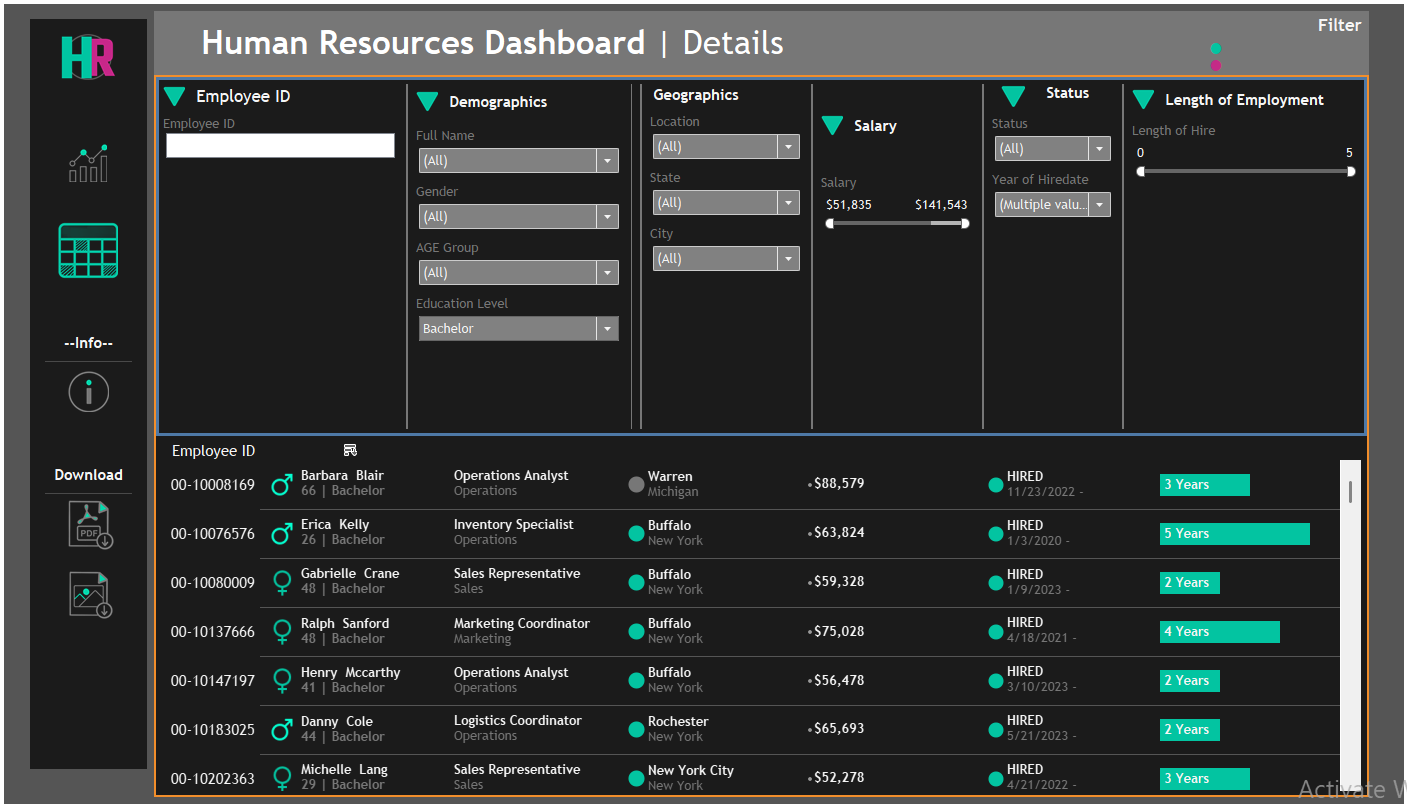

The dashboard page shown, as its layout file describes it:
{"tool":"tableau","page":{"name":"HR | Details","canvas":[1400,800],"ordinal":0},"visuals":[{"type":"text","box":[1286,6,100,30]},{"type":"text","box":[150,7,677.5,64]},{"type":"blank","box":[827.5,7,537.5,64]},{"type":"image","param":"Image/Logo.png","box":[36,25,97,55]},{"type":"text","box":[1203,37,89,36]},{"type":"dashboard-object","box":[155,76,30,32]},{"type":"text","box":[185,76,213.5,32]},{"type":"blank","box":[398.5,76,10,353]},{"type":"dashboard-object","box":[408.5,76,30,44]},{"type":"text","box":[438.5,76,184,44]},{"type":"dashboard-object","box":[542,76,30,32]},{"type":"text","box":[572,76,61.5,32]},{"type":"blank","box":[622.5,76,10,353]},{"type":"blank","box":[632.5,76,10,353]},{"type":"blank","box":[633.5,76,49.5,32]},{"type":"text","box":[642.5,76,161,30]},{"type":"blank","box":[803.5,76,10,353]},{"type":"dashboard-object","box":[813.5,76,30,91]},{"type":"text","box":[843.5,76,90,91]},{"type":"blank","box":[974.5,76,10,353]},{"type":"dashboard-object","box":[984.5,76,51,32]},{"type":"text","box":[1035.5,76,79,26]},{"type":"blank","box":[1114.5,76,10,353]},{"type":"dashboard-object","box":[1124.5,76,30,39]},{"type":"text","box":[1154.5,76,205.5,39]},{"type":"blank","box":[36,80,97,60]},{"type":"filter","title":"details","param":"[federated.1b5o2vp1k13vo616yvkzb0z88h2i].[none:Calculation_1937110846422126599:n","box":[642.5,106,161,56]},{"type":"filter","title":"details","param":"[federated.1b5o2vp1k13vo616yvkzb0z88h2i].[none:Employee_ID:nk]","box":[155,108,243.5,53]},{"type":"filter","title":"details","param":"[federated.1b5o2vp1k13vo616yvkzb0z88h2i].[none:Job Title:nk]","box":[542,108,141,79]},{"type":"filter","title":"details","param":"[federated.1b5o2vp1k13vo616yvkzb0z88h2i].[none:Calculation_1937110847479668753:n","box":[984.5,108,130,56]},{"type":"filter","title":"details","param":"[federated.1b5o2vp1k13vo616yvkzb0z88h2i].[sum:Calculation_1426515241898348553:qk","box":[1124.5,115,235.5,68]},{"type":"filter","title":"details","param":"[federated.1b5o2vp1k13vo616yvkzb0z88h2i].[none:Calculation_1426515241864122372:n","box":[408.5,120,214,56]},{"type":"dashboard-object","box":[36,140,97,38]},{"type":"filter","title":"details","param":"[federated.1b5o2vp1k13vo616yvkzb0z88h2i].[none:State:nk]","box":[642.5,162,161,56]},{"type":"filter","title":"details","param":"[federated.1b5o2vp1k13vo616yvkzb0z88h2i].[yr:Hiredate:ok]","box":[984.5,164,130,56]},{"type":"filter","title":"details","param":"[federated.1b5o2vp1k13vo616yvkzb0z88h2i].[sum:Salary:qk]","box":[813.5,167,161,68]},{"type":"filter","title":"details","param":"[federated.1b5o2vp1k13vo616yvkzb0z88h2i].[none:Gender:nk]","box":[408.5,176,214,56]},{"type":"blank","box":[36,178,97,38]},{"type":"filter","title":"details","param":"[federated.1b5o2vp1k13vo616yvkzb0z88h2i].[none:Department:nk]","box":[542,187,141,76]},{"type":"dashboard-object","box":[36,216,97,60]},{"type":"filter","title":"details","param":"[federated.1b5o2vp1k13vo616yvkzb0z88h2i].[none:City:nk]","box":[642.5,218,161,56]},{"type":"filter","title":"details","param":"[federated.1b5o2vp1k13vo616yvkzb0z88h2i].[none:Calculation_1937110846440509456:n","box":[408.5,232,214,56]},{"type":"text","box":[142,266,1257,267]},{"type":"blank","box":[36,276,97,50]},{"type":"filter","title":"details","param":"[federated.1b5o2vp1k13vo616yvkzb0z88h2i].[none:Education Level:nk]","box":[408.5,288,214,56]},{"type":"text","box":[36,326,97,26]},{"type":"blank","box":[36,352,97,11]},{"type":"dashboard-object","box":[36,363,97,49]},{"type":"blank","box":[36,412,97,46]},{"type":"worksheet","title":"details","mark":"Shape","rows":["Employee_ID"],"cols":["Calculation_1426515241874878472","Calculation_1426515241874878472","Calculation_1426515241874878472","Calculation_1426515241874878472","Calculation_1426515241874878472","Calculation_1426515241898348553"],"box":[152,432,1211,359]},{"type":"text","box":[36,458,97,26]},{"type":"blank","box":[36,484,97,11]},{"type":"dashboard-object","box":[36,495,97,51]},{"type":"blank","box":[36,546,97,20]},{"type":"dashboard-object","box":[36,566,97,49]}]}

Visuals, with their boxes on the page's 1400x800 design canvas (x1, y1, x2, y2). These are canvas units, not pixel positions in the 1407x805 screenshot, which may show the page scaled, cropped or inside an application window:
text: [1286,6,1386,36]
text: [150,7,828,71]
blank: [828,7,1365,71]
image: [36,25,133,80]
text: [1203,37,1292,73]
dashboard-object: [155,76,185,108]
text: [185,76,398,108]
blank: [398,76,408,429]
dashboard-object: [408,76,438,120]
text: [438,76,622,120]
dashboard-object: [542,76,572,108]
text: [572,76,634,108]
blank: [622,76,632,429]
blank: [632,76,642,429]
blank: [634,76,683,108]
text: [642,76,804,106]
blank: [804,76,814,429]
dashboard-object: [814,76,844,167]
text: [844,76,934,167]
blank: [974,76,984,429]
dashboard-object: [984,76,1036,108]
text: [1036,76,1114,102]
blank: [1114,76,1124,429]
dashboard-object: [1124,76,1154,115]
text: [1154,76,1360,115]
blank: [36,80,133,140]
"details" filter: [642,106,804,162]
"details" filter: [155,108,398,161]
"details" filter: [542,108,683,187]
"details" filter: [984,108,1114,164]
"details" filter: [1124,115,1360,183]
"details" filter: [408,120,622,176]
dashboard-object: [36,140,133,178]
"details" filter: [642,162,804,218]
"details" filter: [984,164,1114,220]
"details" filter: [814,167,974,235]
"details" filter: [408,176,622,232]
blank: [36,178,133,216]
"details" filter: [542,187,683,263]
dashboard-object: [36,216,133,276]
"details" filter: [642,218,804,274]
"details" filter: [408,232,622,288]
text: [142,266,1399,533]
blank: [36,276,133,326]
"details" filter: [408,288,622,344]
text: [36,326,133,352]
blank: [36,352,133,363]
dashboard-object: [36,363,133,412]
blank: [36,412,133,458]
"details" worksheet (Shape marks): [152,432,1363,791]
text: [36,458,133,484]
blank: [36,484,133,495]
dashboard-object: [36,495,133,546]
blank: [36,546,133,566]
dashboard-object: [36,566,133,615]
